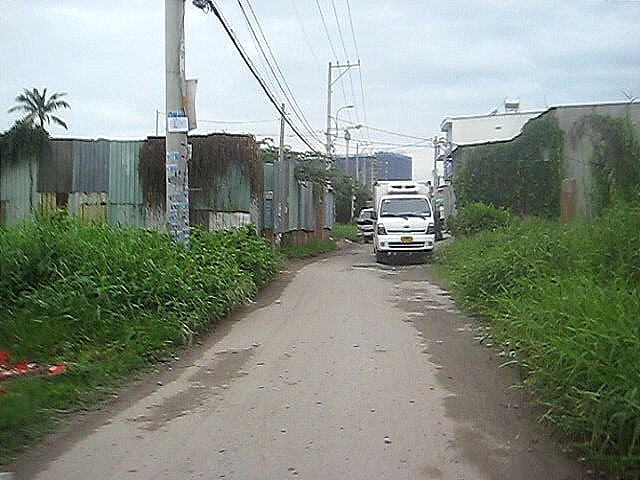hole: (350, 262, 419, 273)
